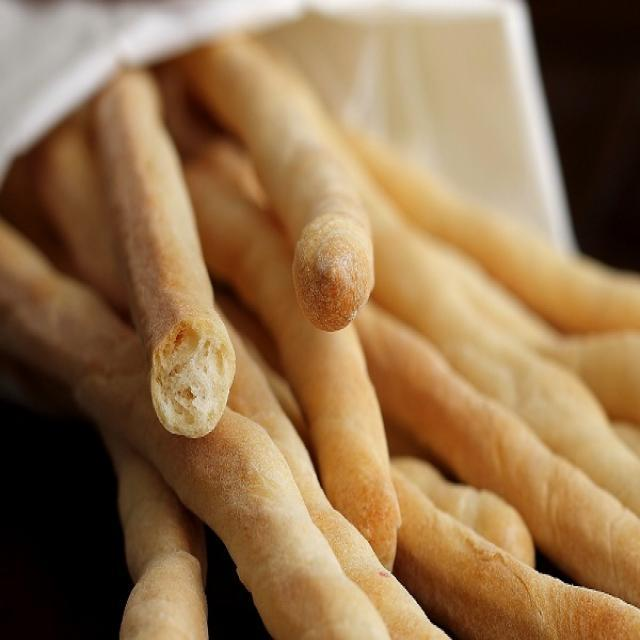Grissini: (26, 87, 630, 637)
